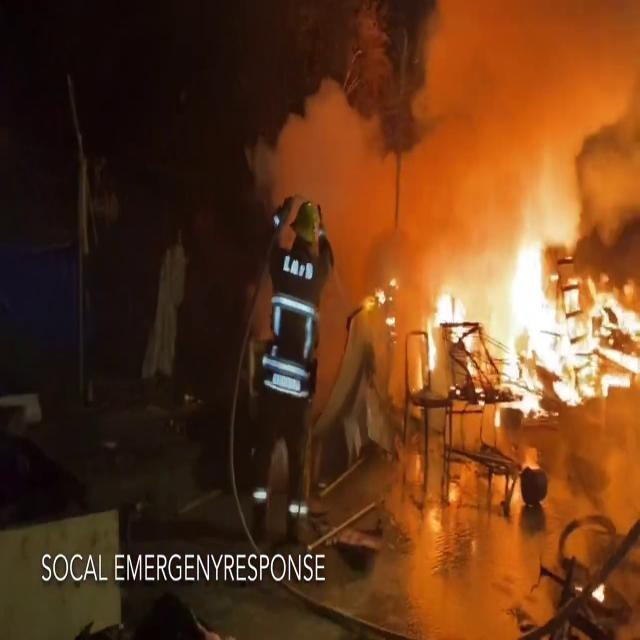Fire: (411, 176, 640, 410), (412, 277, 469, 371)
Smoke: (392, 0, 640, 230)
